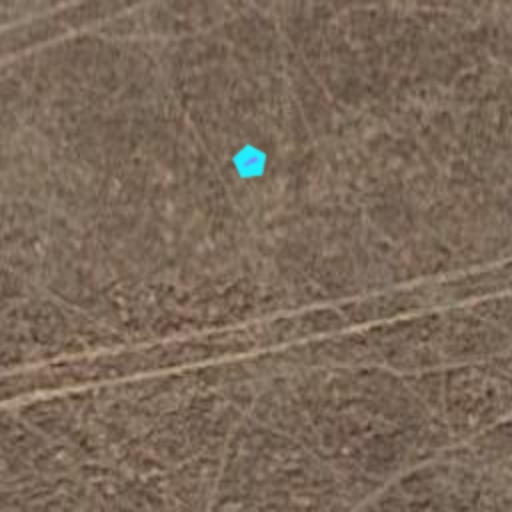pentagon: (224, 136, 276, 188)
